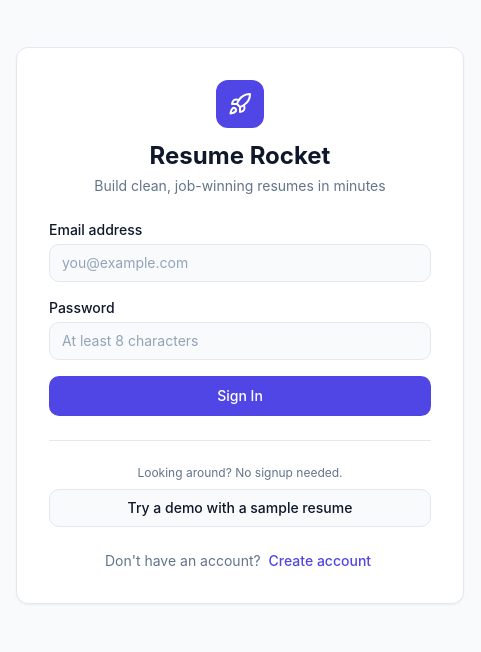
Test: LoginPage › displays the server error message when login returns 401
Type "test@example.com" into the field labelled "Email address" at (240, 262), box [49,244,431,282]
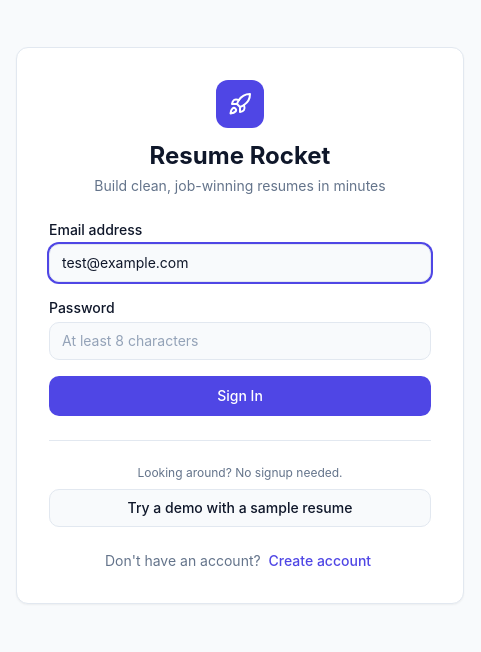
Type "wrongpassword" into the password field labelled "Password" at (240, 340), box [49,322,431,360]
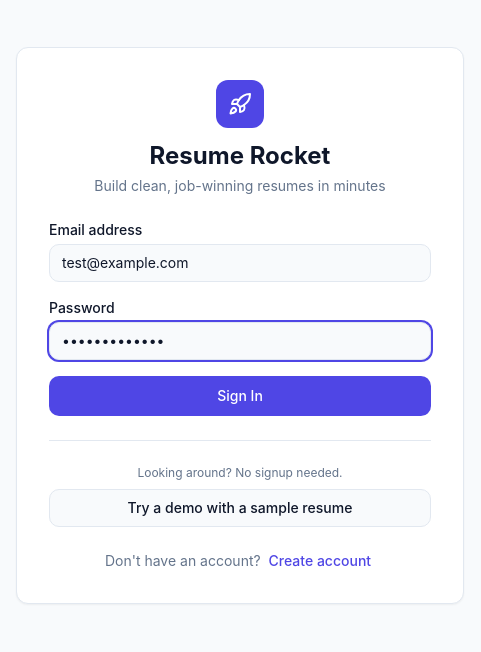
Click the button "Sign In" at (240, 396), box [49,376,431,416]
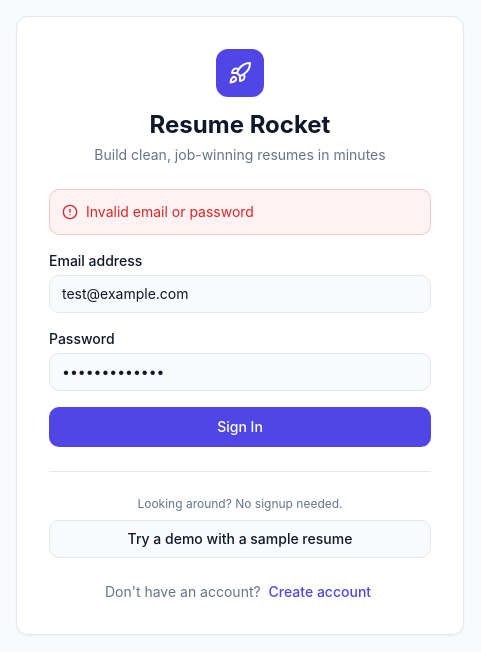
Expected: the message reads "Invalid email or password", [86,202,254,220]
